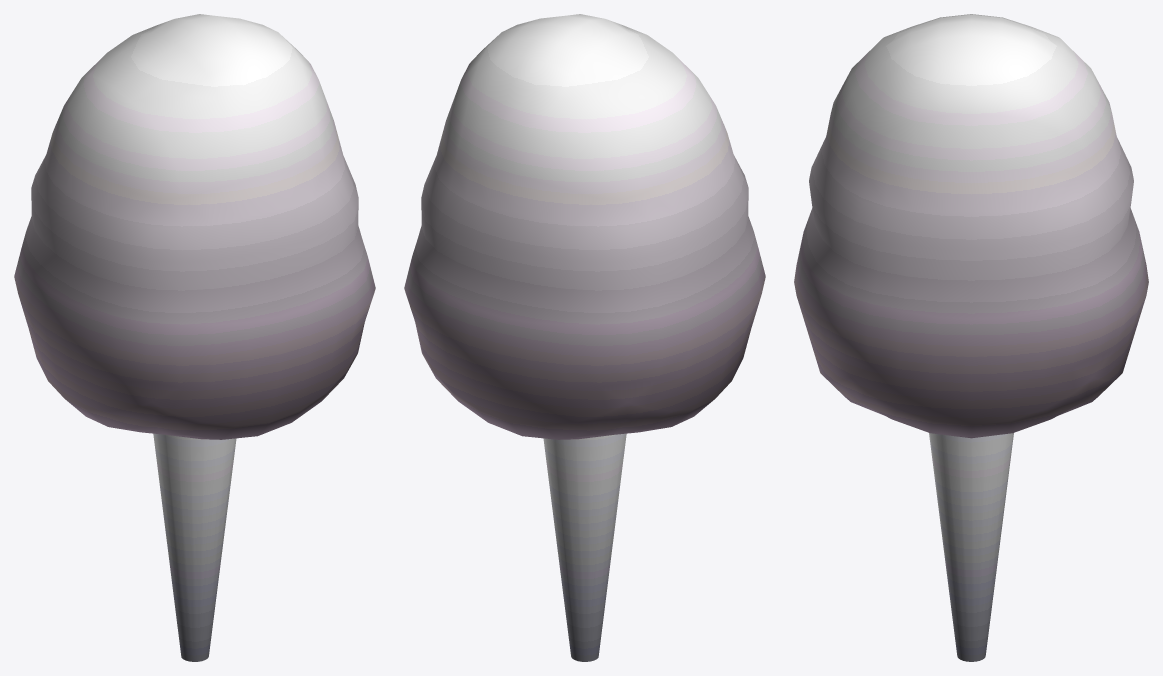
File: SM_Fairyfloss_Peach.fbx
The picture shows the model from 3 angles, left to right: view 1: azimuth 30°, elevation 25°; view 2: azimuth 150°, elevation 25°; view 3: azimuth 270°, elevation 25°; orthographic projection. The views are drawn at different scales.
Visible parts, largest first — view 1: SM_fairyfloss; view 2: SM_fairyfloss; view 3: SM_fairyfloss.
Boxes of the visible parts, <box> form: SM_fairyfloss: <box>14,14,375,661</box>; SM_fairyfloss: <box>404,14,765,661</box>; SM_fairyfloss: <box>794,14,1148,661</box>.
Size of the model in its own units: 3.04 by 6.05 by 3.04.
